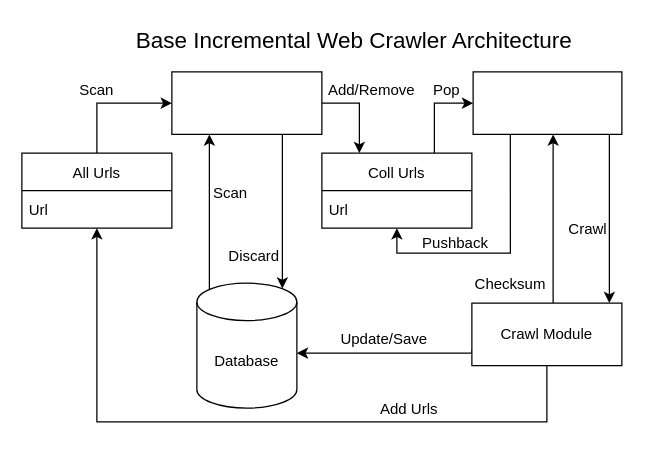
This 648x454 diagram has some shape labels left out. Each missing label, with the box of its shape:
Ranking Module: (171, 71, 322, 134)
Update Module: (472, 71, 622, 134)
